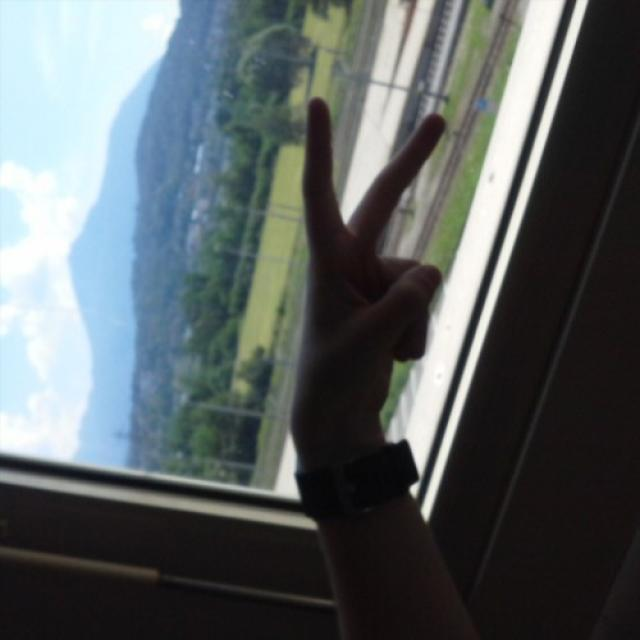scissors: (302, 96, 449, 412)
